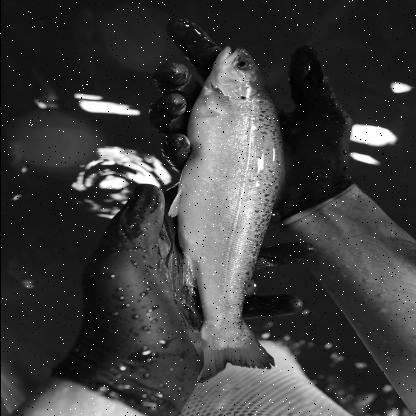fish: (167, 46, 286, 385)
